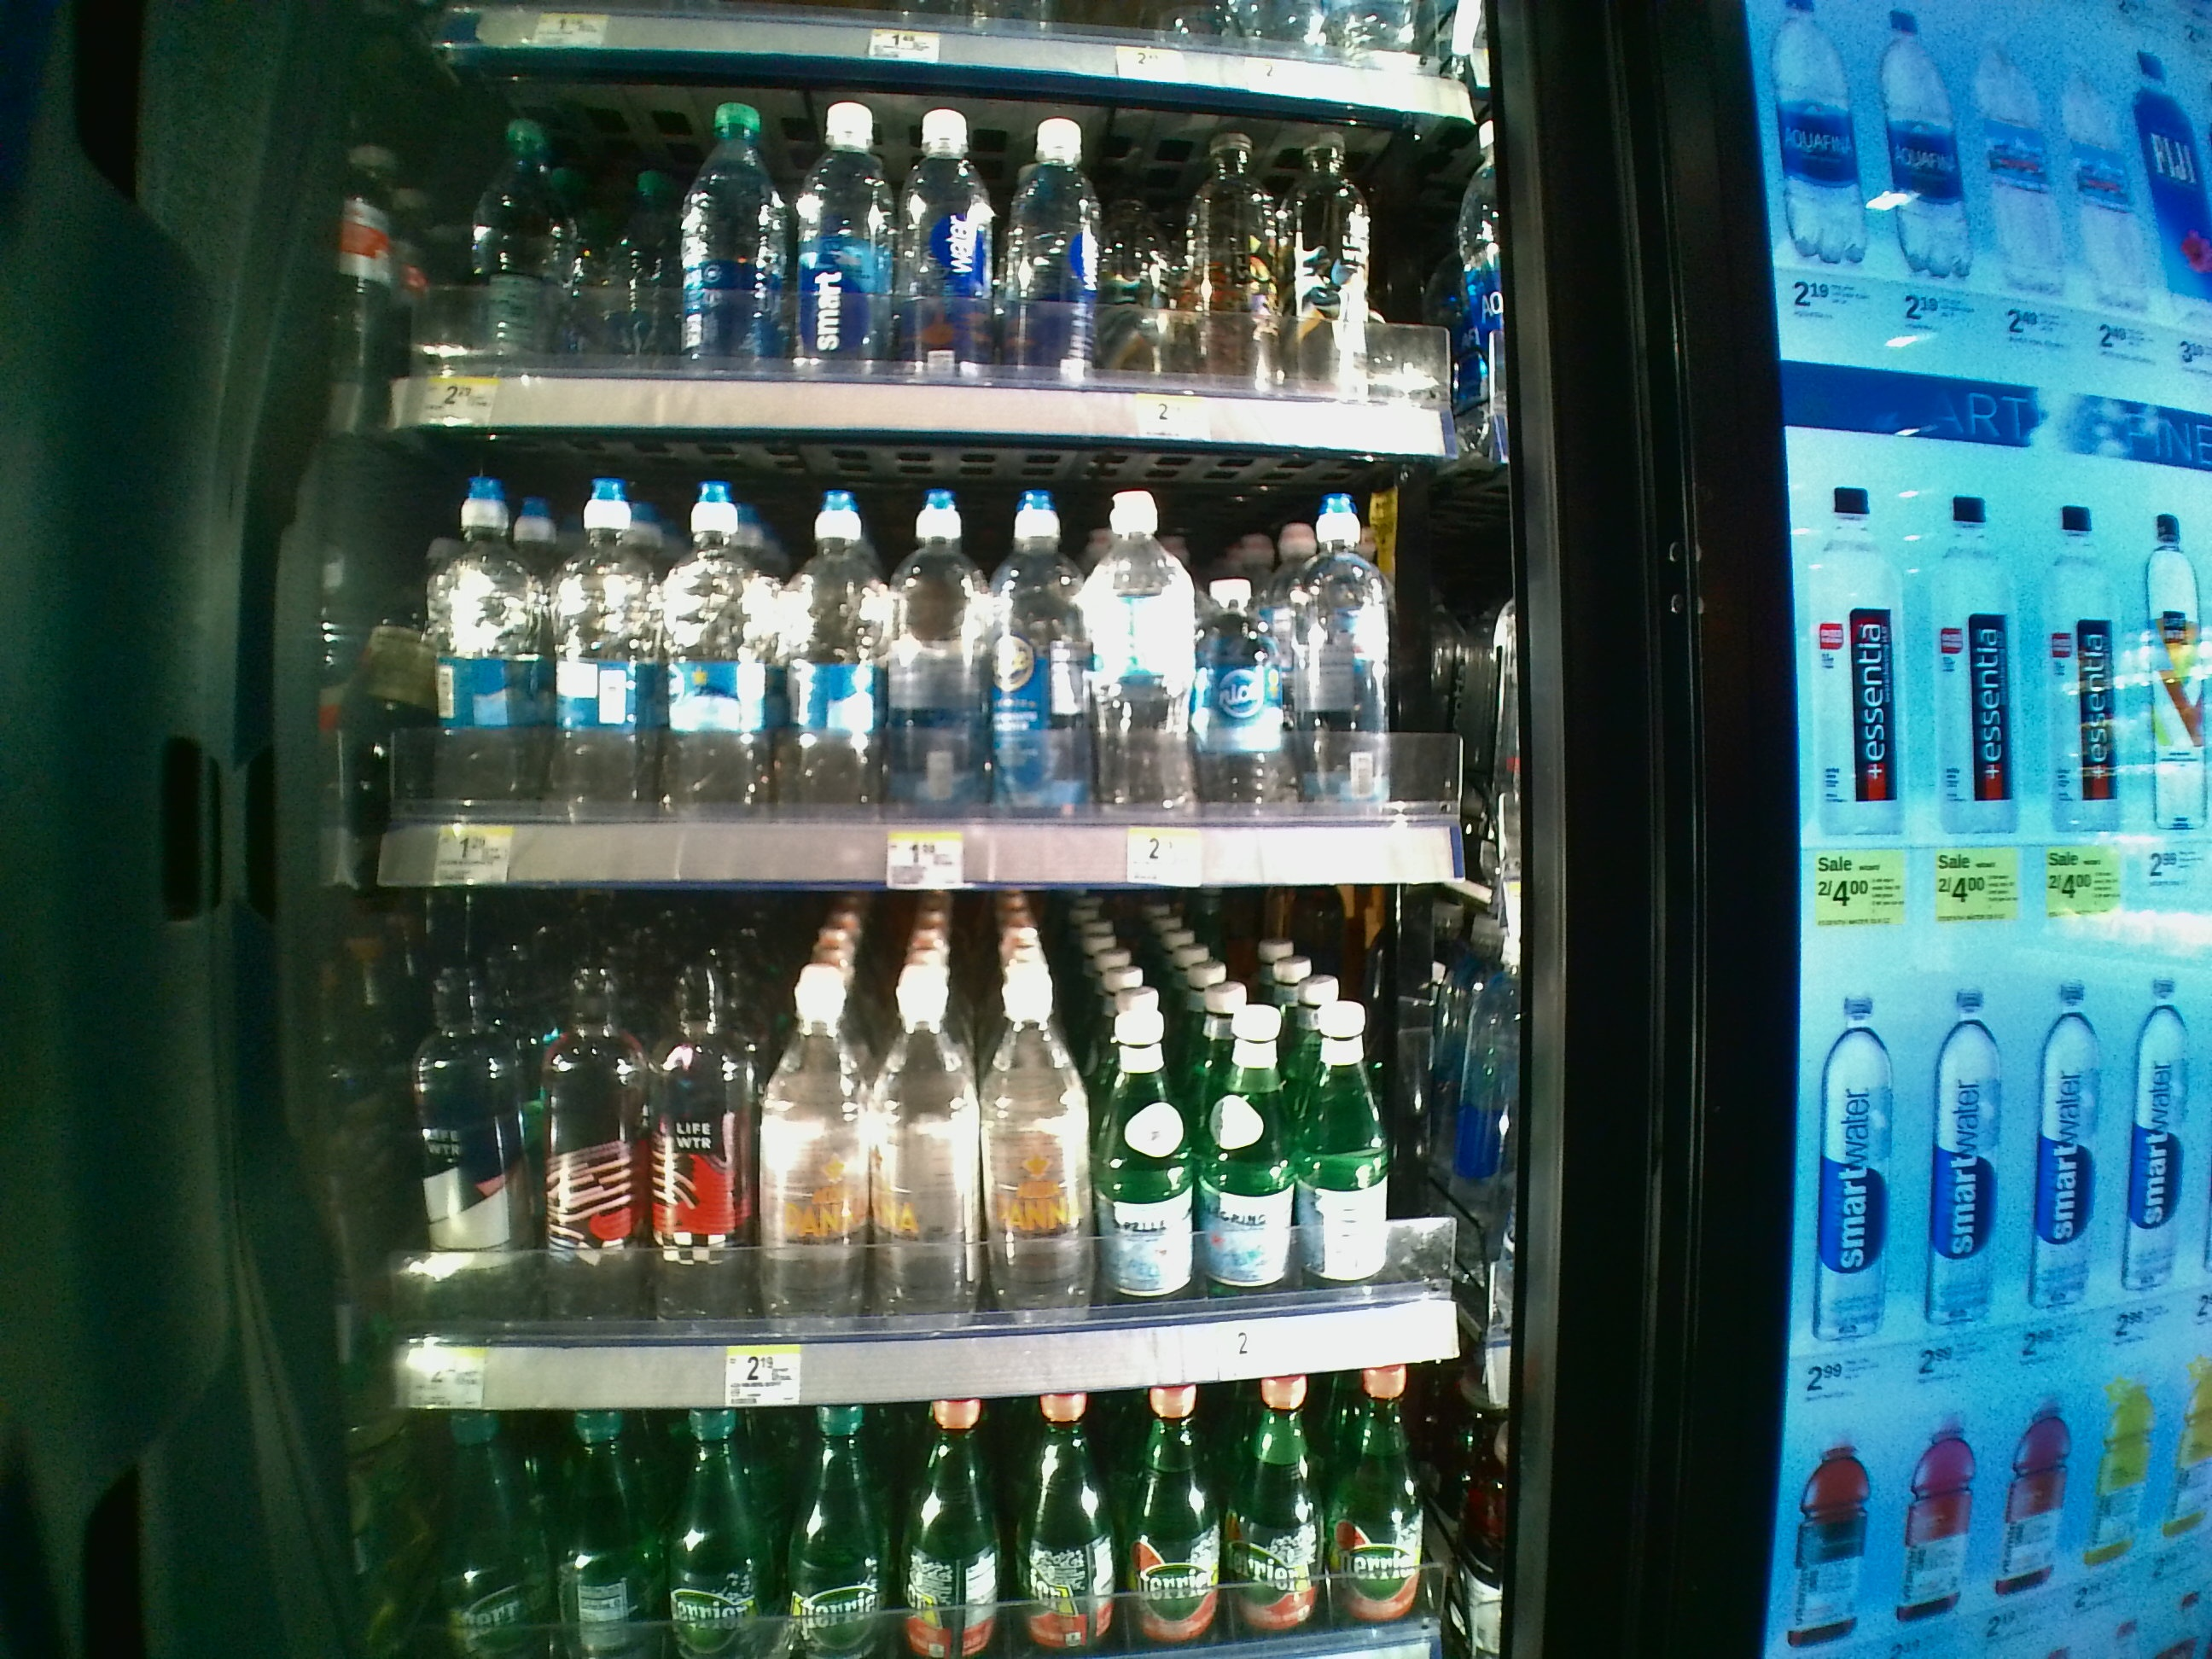Shelf: (314, 892, 1484, 1412), (310, 427, 1496, 894)
